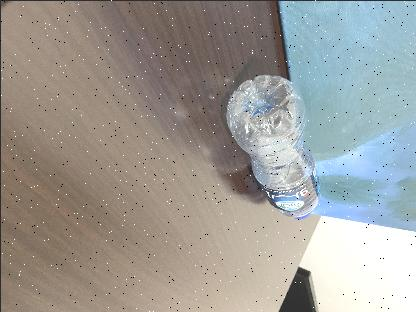Plastic Bottle: (226, 74, 319, 219)
